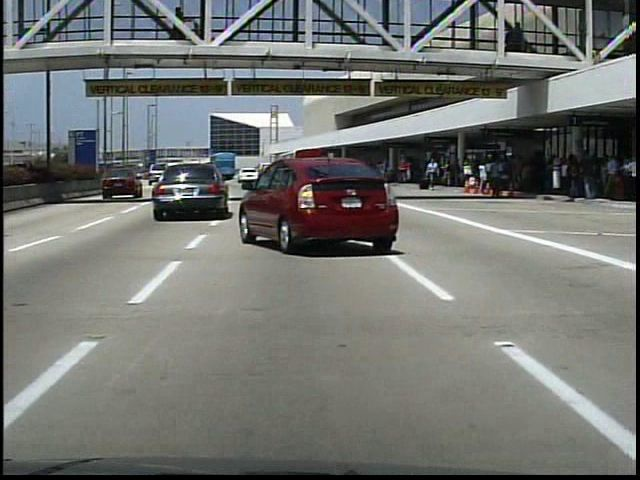person: (487, 156, 505, 205), (170, 9, 187, 41), (426, 160, 442, 193)
